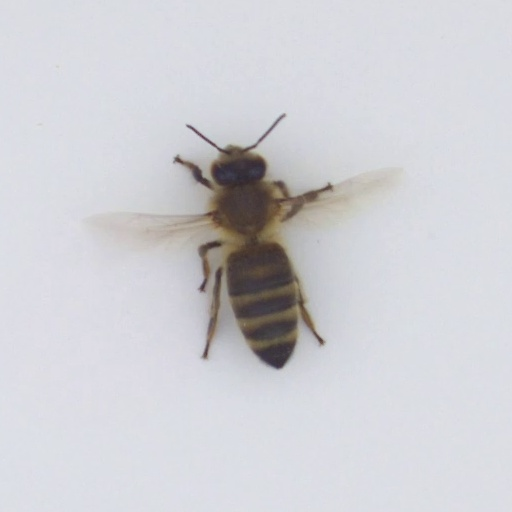Bee: (199, 138, 317, 373)
Thorax: (214, 180, 280, 239)
